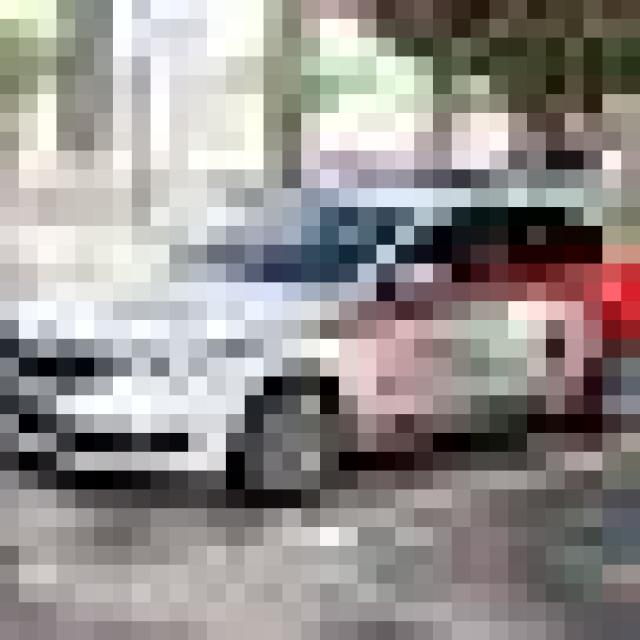police: (7, 179, 630, 491)
